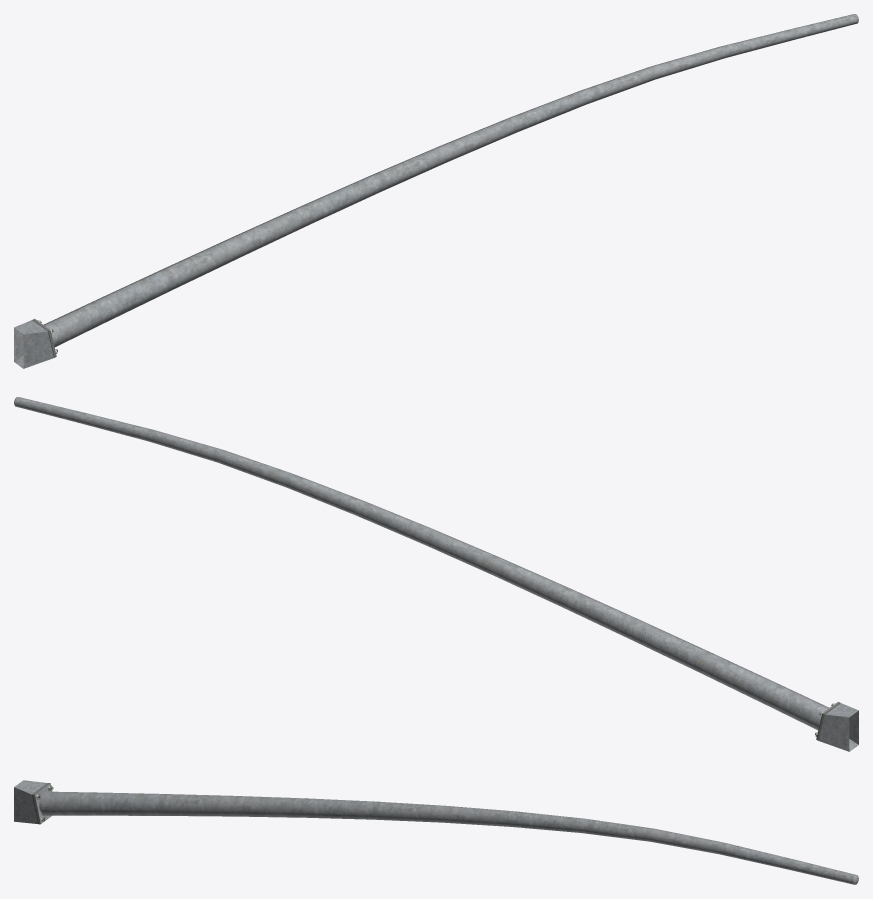
The model's file is Signal_MastArm_25ft.fbx.
The picture shows the model from 3 angles, top to bottom: view 1: azimuth 30°, elevation 25°; view 2: azimuth 150°, elevation 25°; view 3: azimuth 330°, elevation 25°; orthographic projection.
Visible parts, largest first — view 1: signal_mast_arm_25_mesh; view 2: signal_mast_arm_25_mesh; view 3: signal_mast_arm_25_mesh.
Boxes of the visible parts, <box> form: signal_mast_arm_25_mesh: <box>14,14,858,368</box>; signal_mast_arm_25_mesh: <box>14,397,858,751</box>; signal_mast_arm_25_mesh: <box>14,780,858,884</box>.
Bounding box in the file's own units: 776 × 25.4 × 130.
1 material, 1 textured.
